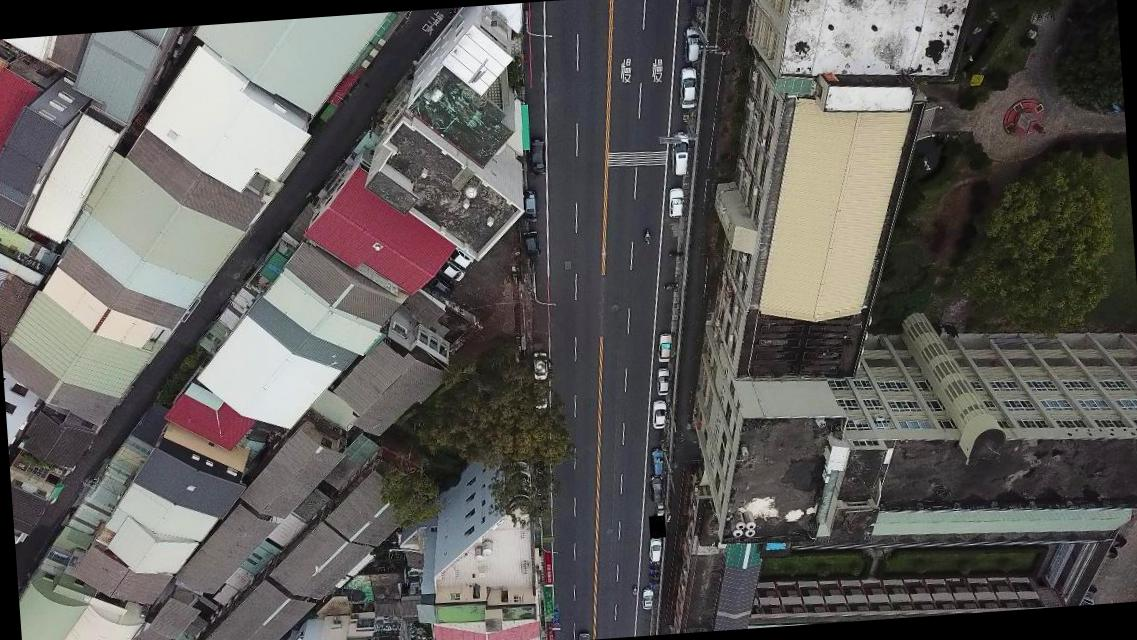vehicle: (667, 132, 692, 176), (676, 66, 698, 108), (526, 136, 546, 176), (683, 24, 702, 63), (666, 182, 685, 218), (448, 244, 474, 270), (438, 258, 463, 282), (655, 332, 674, 363), (649, 398, 668, 429), (522, 228, 540, 260), (524, 188, 540, 222), (428, 274, 452, 296), (653, 365, 670, 395), (531, 350, 548, 380), (649, 448, 664, 476), (646, 537, 662, 563), (649, 475, 663, 503), (640, 588, 654, 610)
